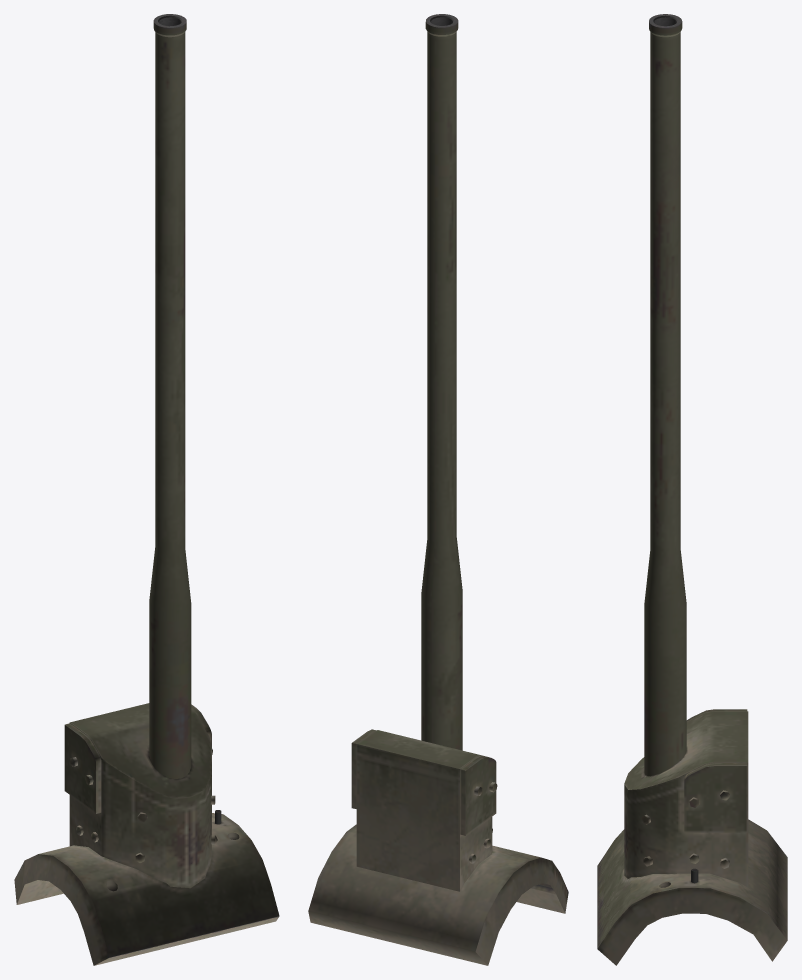
File: Gun_02.glb
3 views of the same model, side by side, from view 1: azimuth 30°, elevation 25°; view 2: azimuth 150°, elevation 25°; view 3: azimuth 270°, elevation 25° (orthographic). The views are drawn at different scales.
Visible parts, largest first — view 1: set_0_group_0; view 2: set_0_group_0; view 3: set_0_group_0.
Part boxes in pixels (bbox=[...]): set_0_group_0: bbox=[14, 14, 279, 965]; set_0_group_0: bbox=[308, 14, 568, 965]; set_0_group_0: bbox=[597, 14, 787, 965].
Bounding box in the file's own units: 0.7091 × 3.33 × 0.6344.
1 material, 1 textured.
